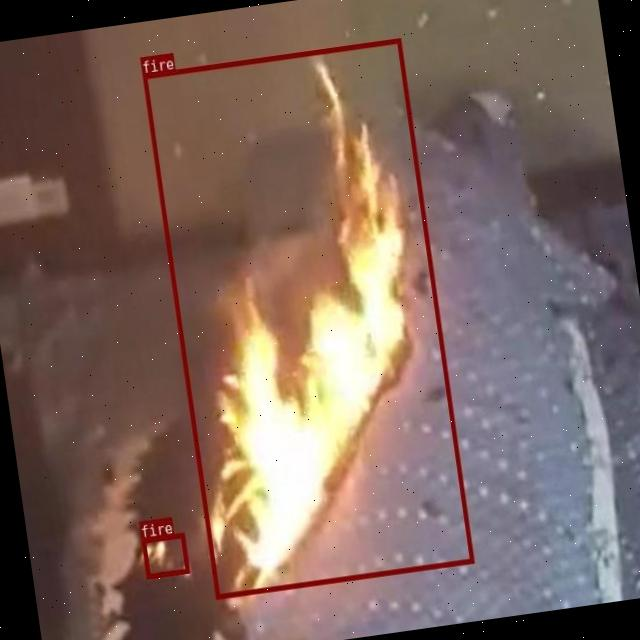fire: (142, 38, 473, 598), (141, 532, 189, 579)
